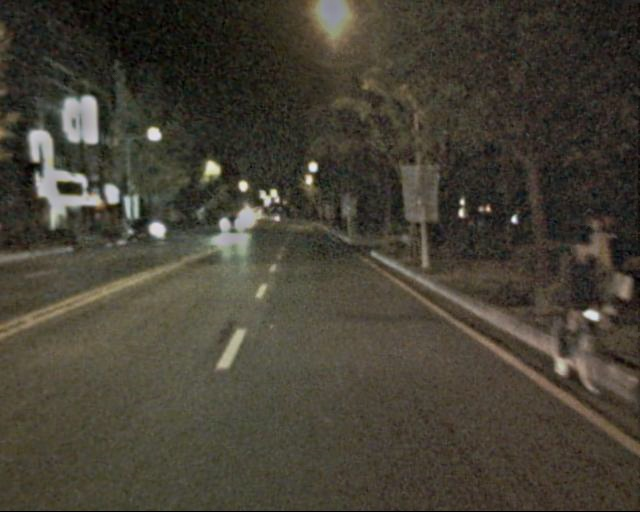person: (545, 245, 611, 369), (572, 215, 621, 317)
